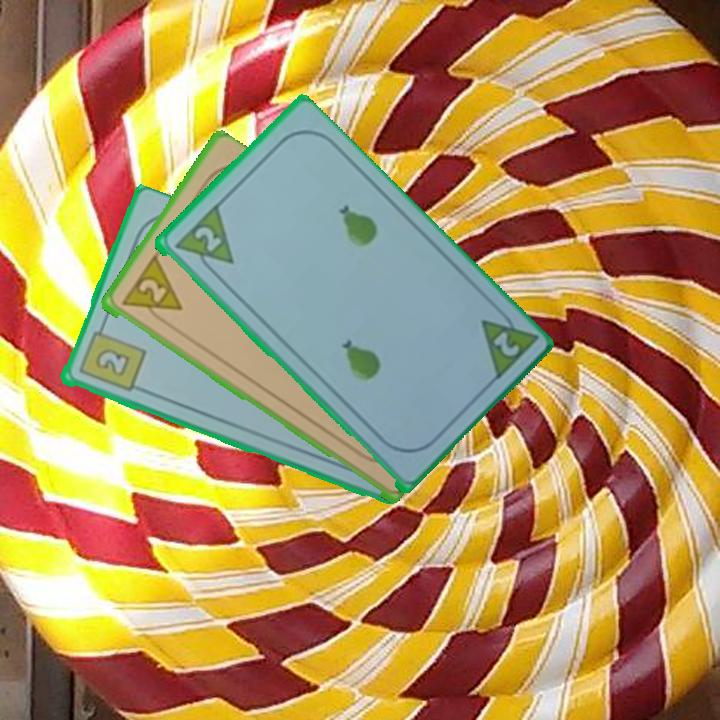2b: (74, 320, 148, 395)
2p: (476, 301, 539, 385), (117, 253, 185, 328), (190, 222, 224, 255)
